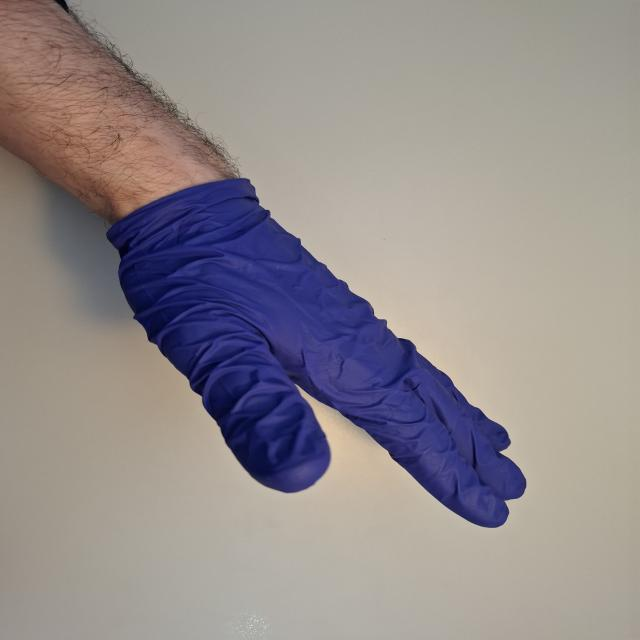glove_on: (105, 169, 536, 532)
